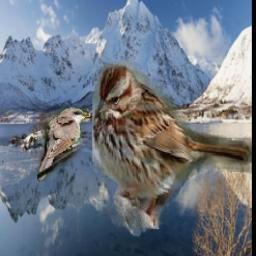Cuckoo: (37, 109, 93, 182)
Sparrow: (92, 58, 252, 229)
